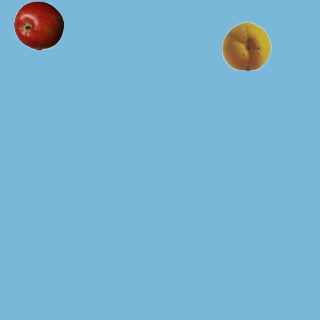Apple Braeburn: (13, 0, 63, 50)
Peach 2: (221, 20, 271, 70)
